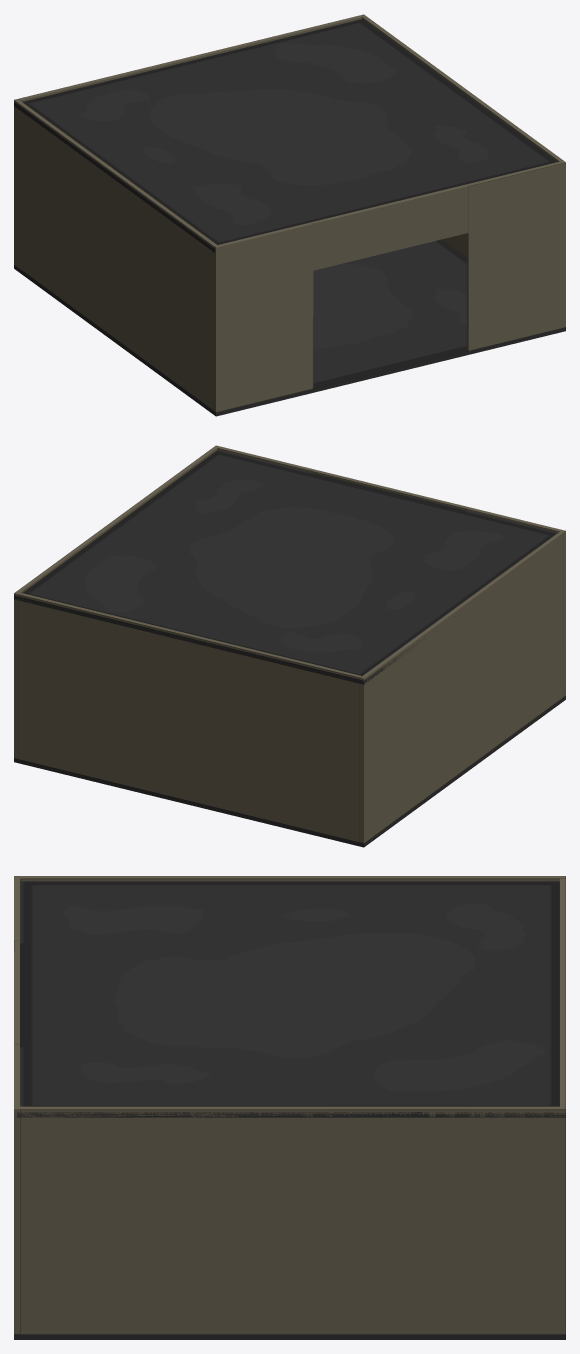
File: garage.fbx
The picture shows the model from 3 angles, top to bottom: view 1: azimuth 30°, elevation 25°; view 2: azimuth 150°, elevation 25°; view 3: azimuth 270°, elevation 25°; orthographic projection. The views are drawn at different scales.
Visible parts, largest first — view 1: cube_1, cube_6, cube, cube_2, cube_3, cube_4, cube_7, cube_5; view 2: cube_1, cube_7, cube_6, cube, cube_5, cube_2, cube_4; view 3: cube_1, cube_5, cube, cube_6, cube_3, cube_7, cube_4.
Part boxes in pixels (x1,y1,x2,y2): cube_1: (14, 19, 557, 252); cube_6: (14, 99, 216, 410); cube: (14, 239, 565, 416); cube_2: (213, 222, 313, 412); cube_3: (466, 160, 565, 350); cube_4: (311, 184, 468, 270); cube_7: (18, 15, 362, 101); cube_5: (360, 14, 563, 257); cube_1: (14, 450, 557, 684); cube_7: (18, 592, 361, 842); cube_6: (360, 531, 563, 843); cube: (14, 696, 565, 847); cube_5: (14, 447, 217, 758); cube_2: (466, 507, 565, 697); cube_4: (311, 469, 468, 510); cube_1: (17, 878, 565, 1117); cube_5: (20, 1106, 565, 1334); cube: (14, 1334, 565, 1339); cube_6: (20, 876, 565, 881); cube_3: (14, 1044, 19, 1334); cube_7: (560, 878, 565, 1109); cube_4: (14, 940, 19, 1044).
Size of the model in its own units: 562 by 259 by 562.
3 materials, 3 textured.
